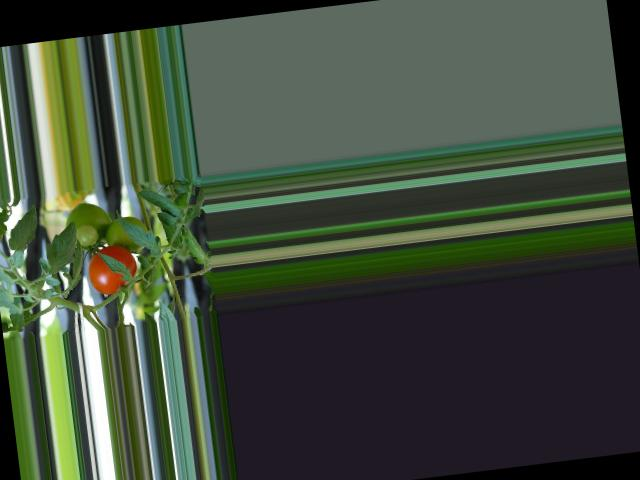tomato: (84, 243, 139, 297)
